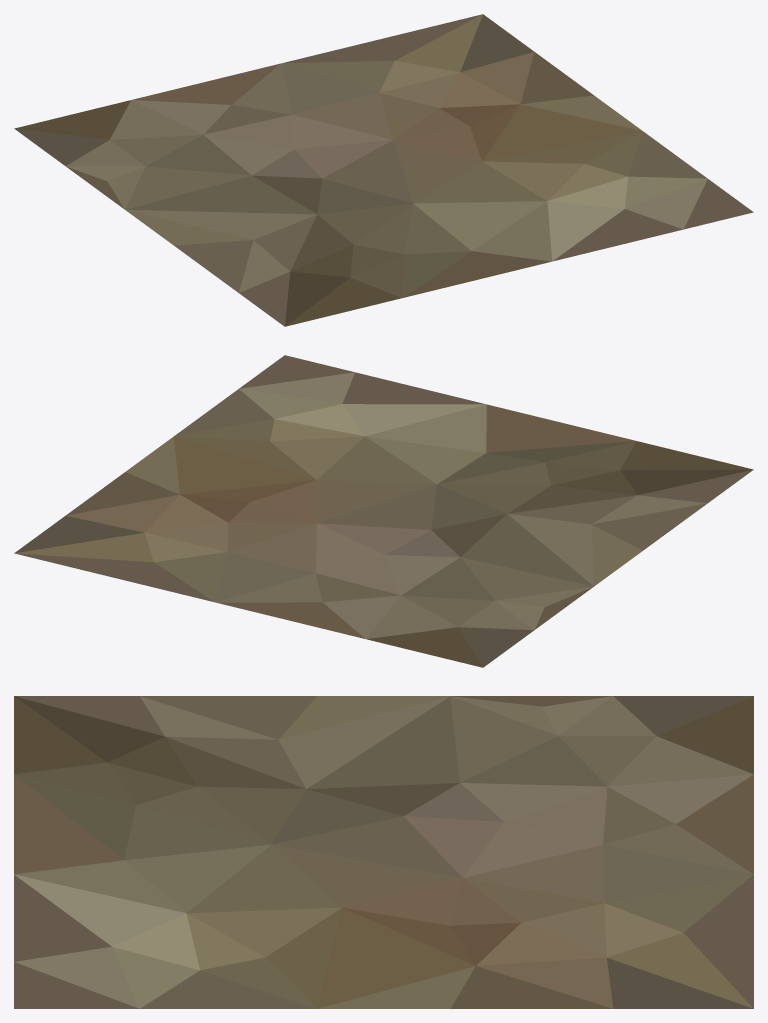
The model's file is Floor_UG-DirtB.fbx.
The picture shows the model from 3 angles, top to bottom: view 1: azimuth 30°, elevation 25°; view 2: azimuth 150°, elevation 25°; view 3: azimuth 270°, elevation 25°; orthographic projection. The views are drawn at different scales.
Visible parts, largest first — view 1: Floor_UG-DirtB; view 2: Floor_UG-DirtB; view 3: Floor_UG-DirtB.
Part boxes in pixels (box(x1,y1,x2,y2)): Floor_UG-DirtB: box(14, 14, 753, 326); Floor_UG-DirtB: box(14, 355, 753, 667); Floor_UG-DirtB: box(14, 696, 753, 1008).
Size of the model in its own units: 400 by 7.56 by 400.
